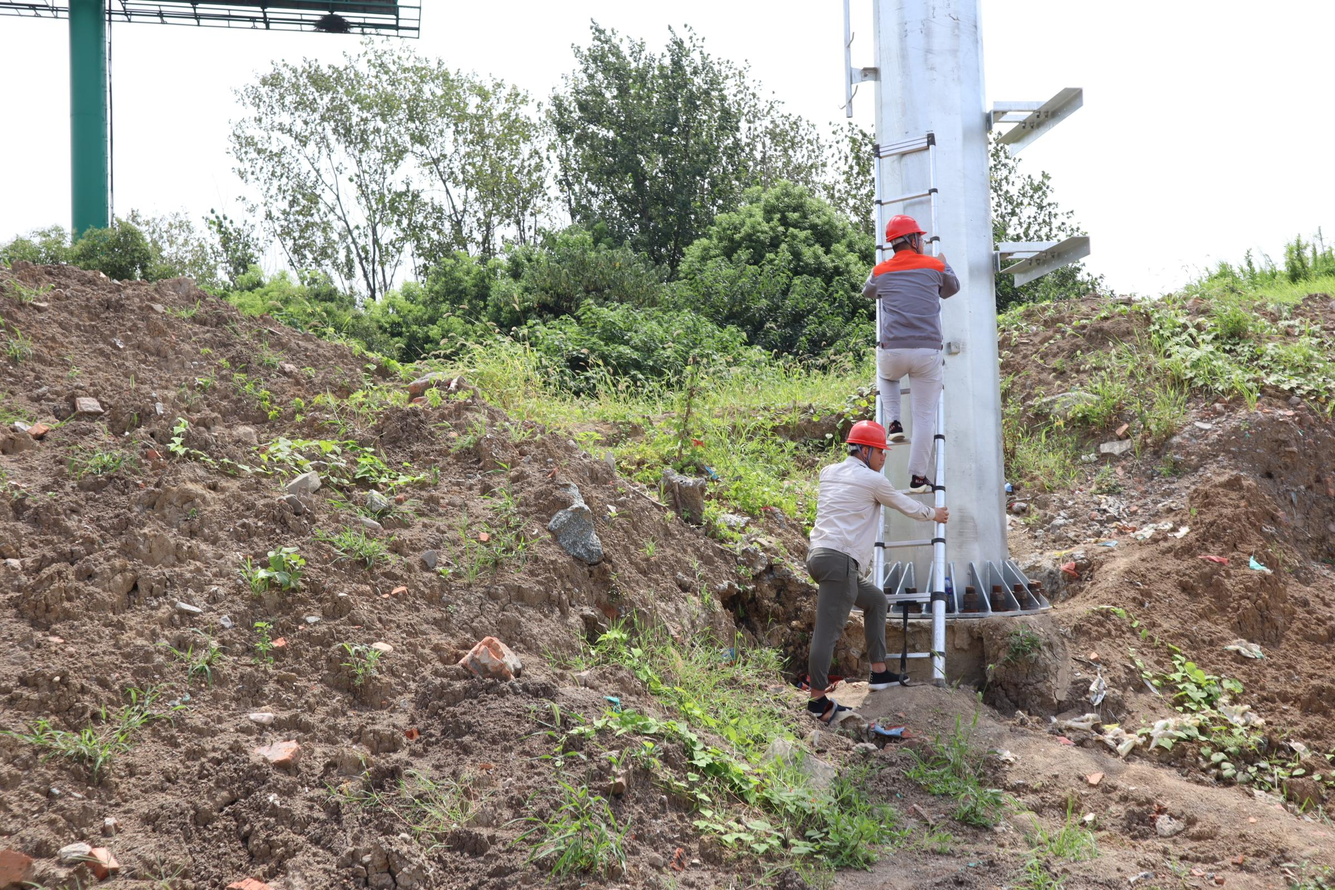未系安全绳的工作人员: (859, 213, 961, 495)
